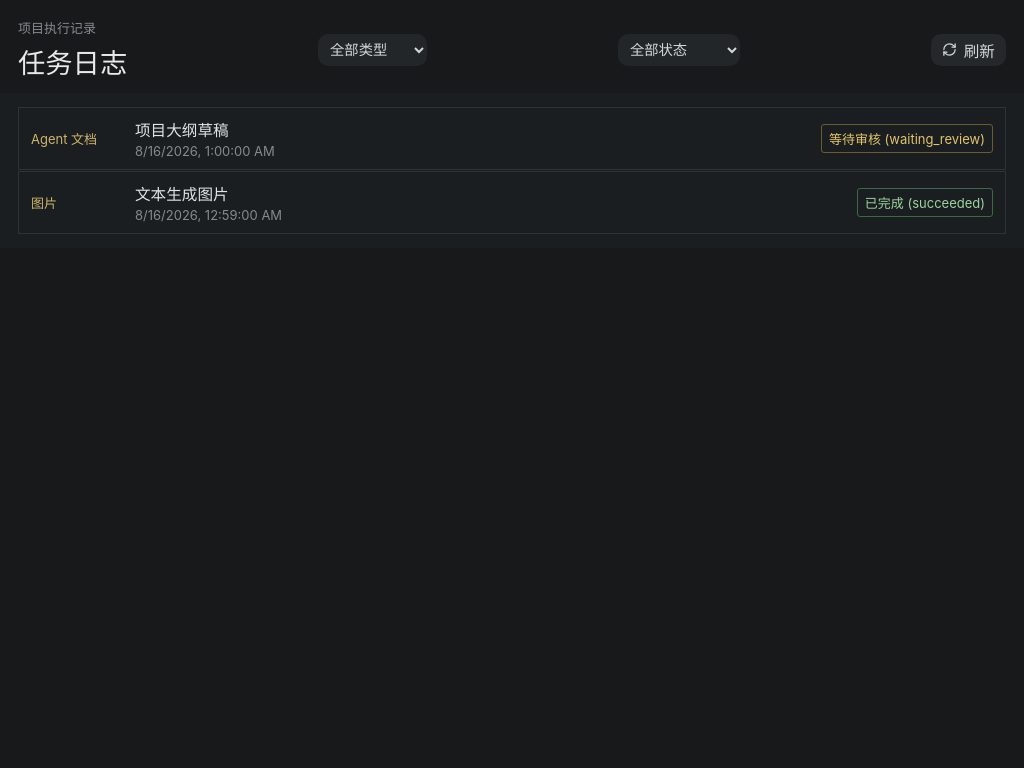
Scenario: TaskLogView › loads full image job details without requesting Agent task details
Click the button "图片 文本生成图片 8/16/2026, 12:59:00 AM 已完成 (succeeded)": [182, 194] box top-left (18, 171), bottom-right (1006, 234)
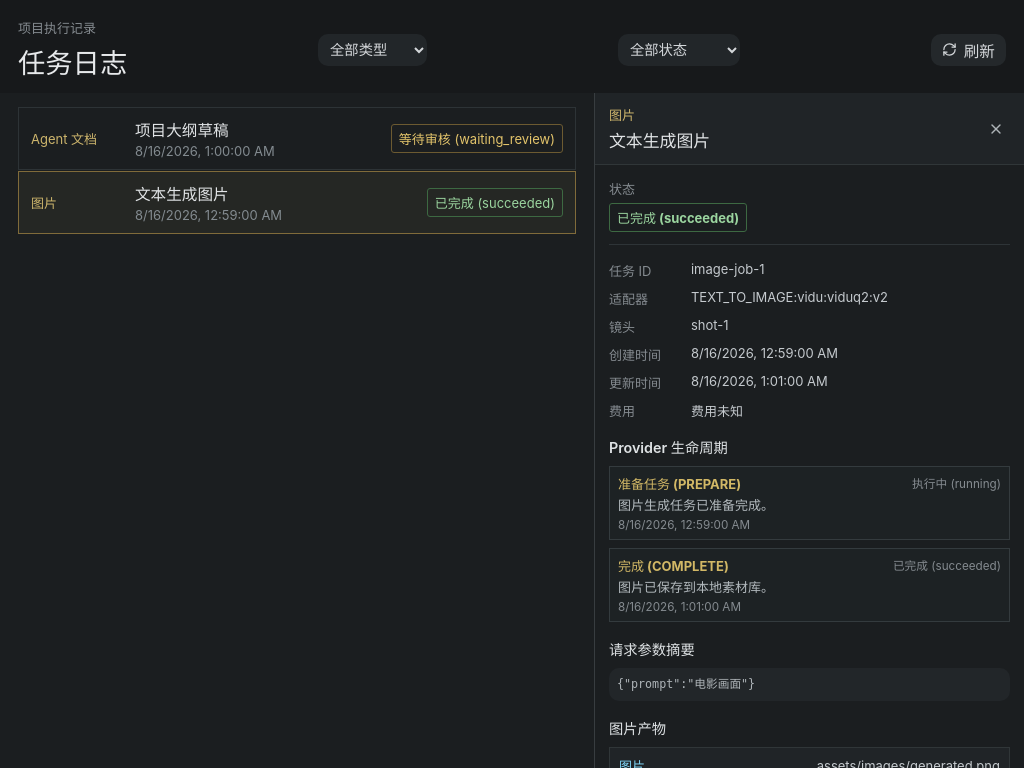
Result: the heading "请求参数摘要" is shown at top-left (609, 641), bottom-right (695, 658)
Result: the text "费用未知" is shown at top-left (691, 403), bottom-right (743, 419)
Result: the text "image-job-1" is shown at top-left (691, 261), bottom-right (764, 277)
